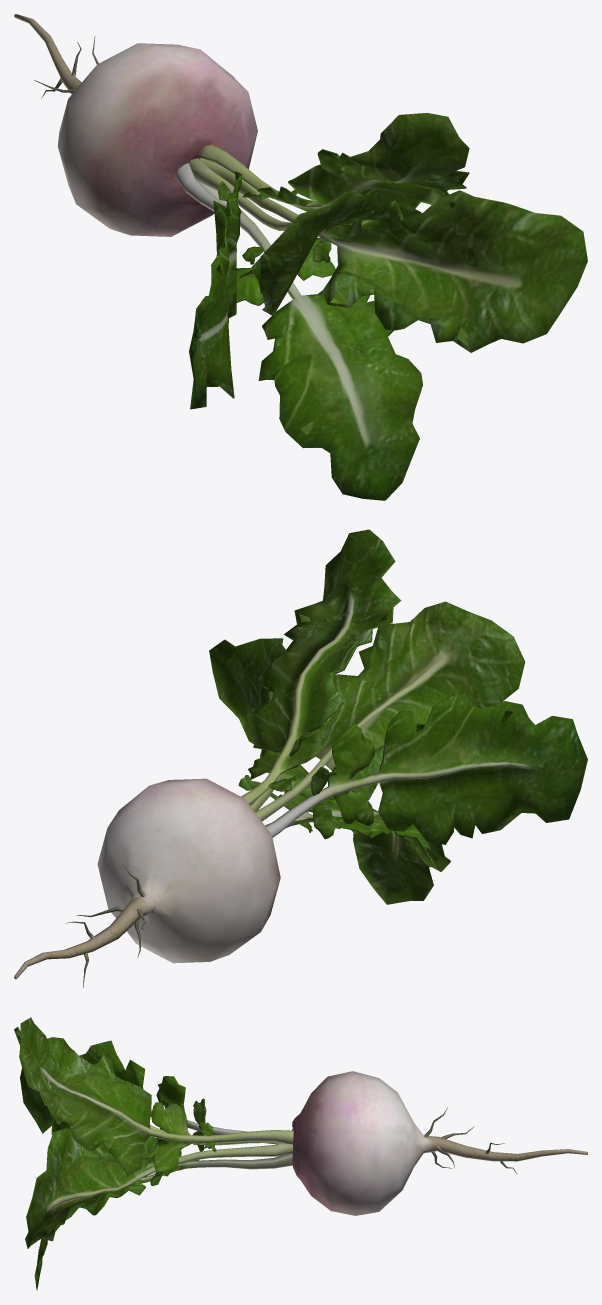
File: nabo.glb
The picture shows the model from 3 angles, top to bottom: view 1: azimuth 30°, elevation 25°; view 2: azimuth 150°, elevation 25°; view 3: azimuth 270°, elevation 25°; orthographic projection. The views are drawn at different scales.
Parts seen in each view (by area): view 1: Asset3DLoader.sceneRoot; view 2: Asset3DLoader.sceneRoot; view 3: Asset3DLoader.sceneRoot.
Boxes of the visible parts, x1,y1,x2,y2 form: Asset3DLoader.sceneRoot: (14,14,587,500); Asset3DLoader.sceneRoot: (14,529,587,987); Asset3DLoader.sceneRoot: (14,1017,587,1290).
Bounding box in the file's own units: 68.69 × 63.82 × 119.
Materials: 1 (1 with a texture image).
